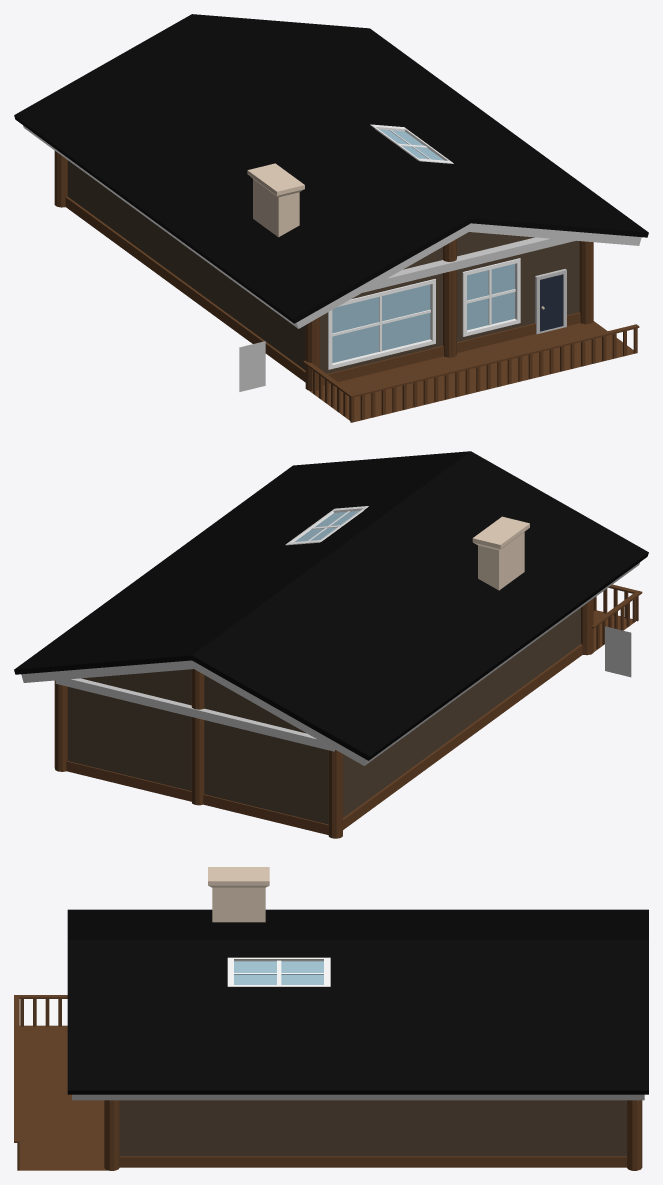
The model's file is cabin.glb.
The picture shows the model from 3 angles, top to bottom: view 1: azimuth 30°, elevation 25°; view 2: azimuth 150°, elevation 25°; view 3: azimuth 270°, elevation 25°; orthographic projection. The views are drawn at different scales.
Parts seen in each view (by area): view 1: Cube, Cube.001, Cube.003, Cube.002; view 2: Cube, Cube.002; view 3: Cube, Cube.003, Cube.002.
Boxes of the visible parts, left/top/right/bottom form: Cube: left=14, top=14, right=648, bottom=421; Cube.001: left=350, top=324, right=637, bottom=422; Cube.003: left=303, top=324, right=639, bottom=397; Cube.002: left=308, top=365, right=351, bottom=420; Cube: left=14, top=451, right=648, bottom=838; Cube.002: left=596, top=593, right=636, bottom=648; Cube: left=19, top=867, right=648, bottom=1170; Cube.003: left=14, top=995, right=67, bottom=1142; Cube.002: left=20, top=996, right=61, bottom=1026.
Size of the model in its own units: 15.74 by 6.44 by 22.21.
